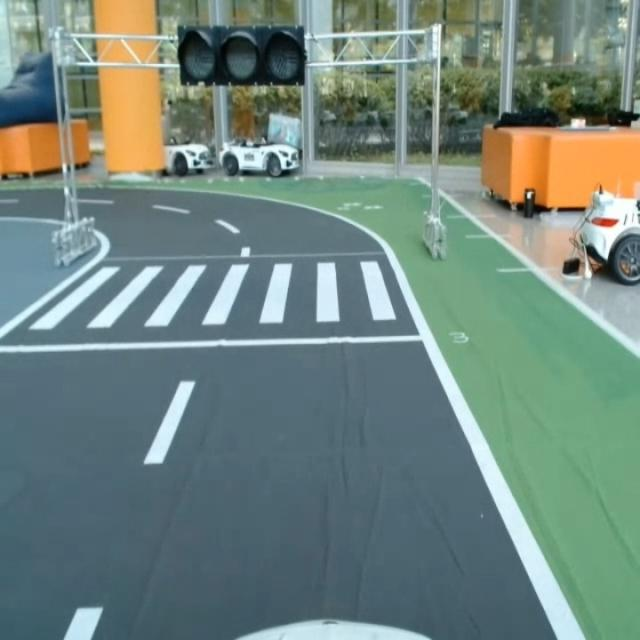traffic-light: (172, 22, 310, 89)
